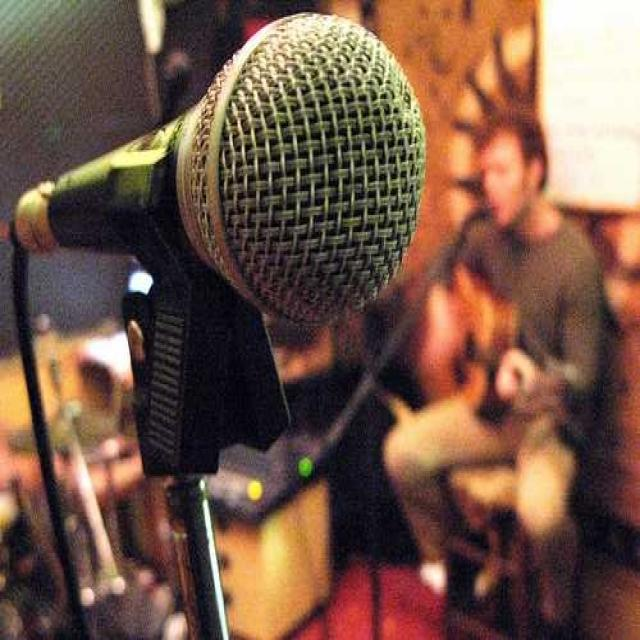microphone: (19, 9, 420, 462)
